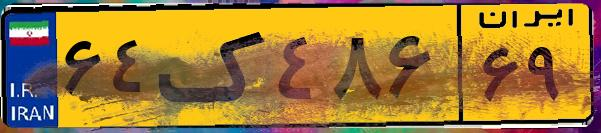4: (270, 28, 330, 110), (110, 28, 158, 98)
6: (385, 28, 445, 110), (57, 26, 110, 100), (475, 38, 525, 113)
8: (330, 28, 385, 110)
9: (525, 38, 570, 115)
ک: (158, 12, 270, 120)
